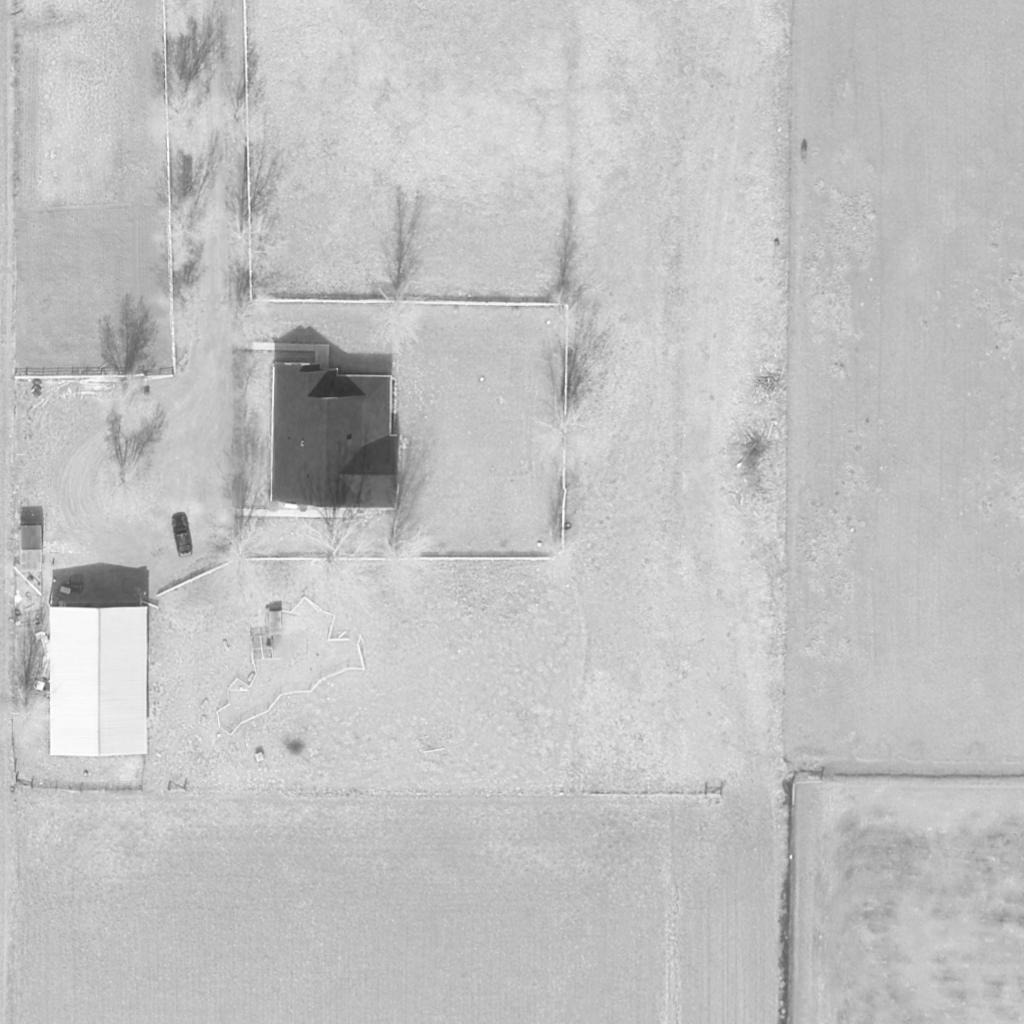vehicle: (171, 514, 193, 556)
